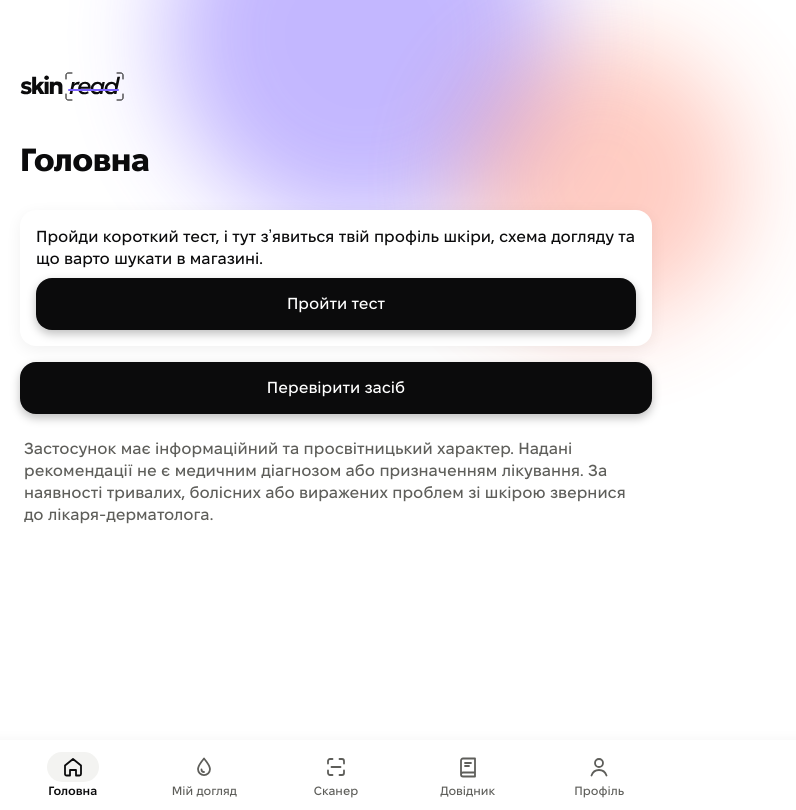
Test: app routes › the home page links to the test
Click the link "Пройти тест": click(336, 304) x1=36 y1=278 x2=636 y2=330
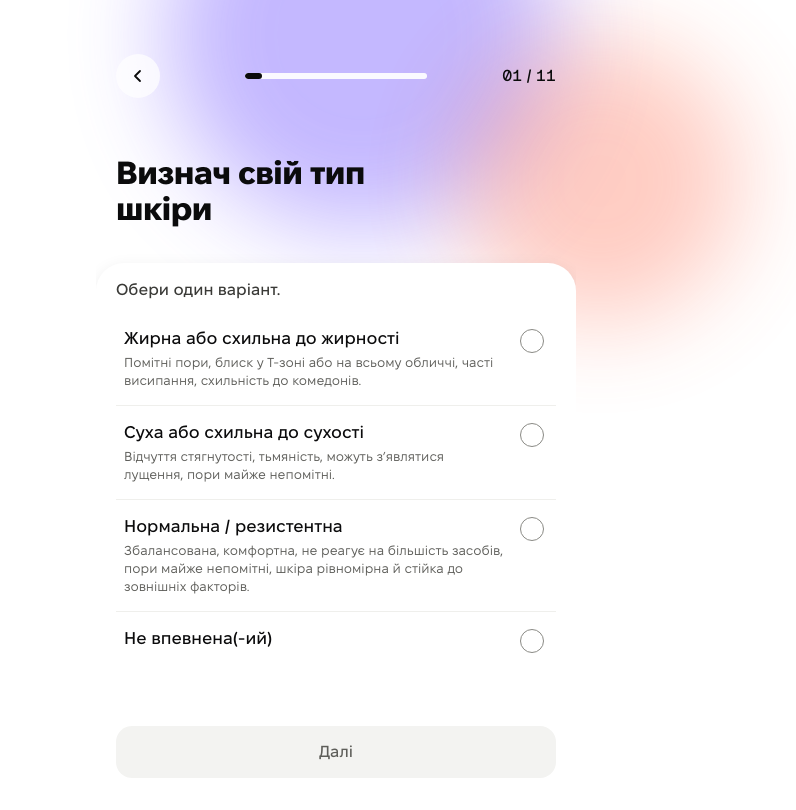
Result: the heading "Визнач свій тип шкіри" is shown at x1=116 y1=155 x2=365 y2=226
